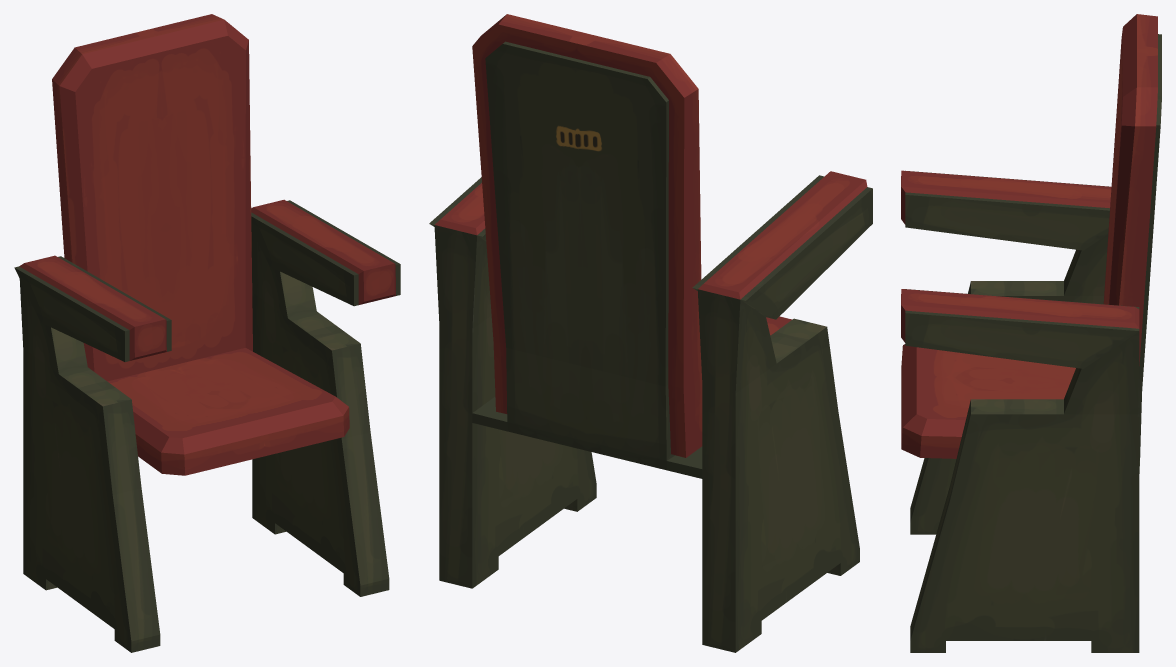
File: chair.fbx
3 views of the same model, side by side, from view 1: azimuth 30°, elevation 25°; view 2: azimuth 150°, elevation 25°; view 3: azimuth 270°, elevation 25° (orthographic). The views are drawn at different scales.
Parts seen in each view (by area): view 1: chair; view 2: chair; view 3: chair.
Boxes of the visible parts, x1=… form: chair: x1=14, y1=14, x2=400, y2=652; chair: x1=429, y1=14, x2=872, y2=652; chair: x1=901, y1=14, x2=1161, y2=652.
Bounding box in the file's own units: 156 × 273 × 121.
